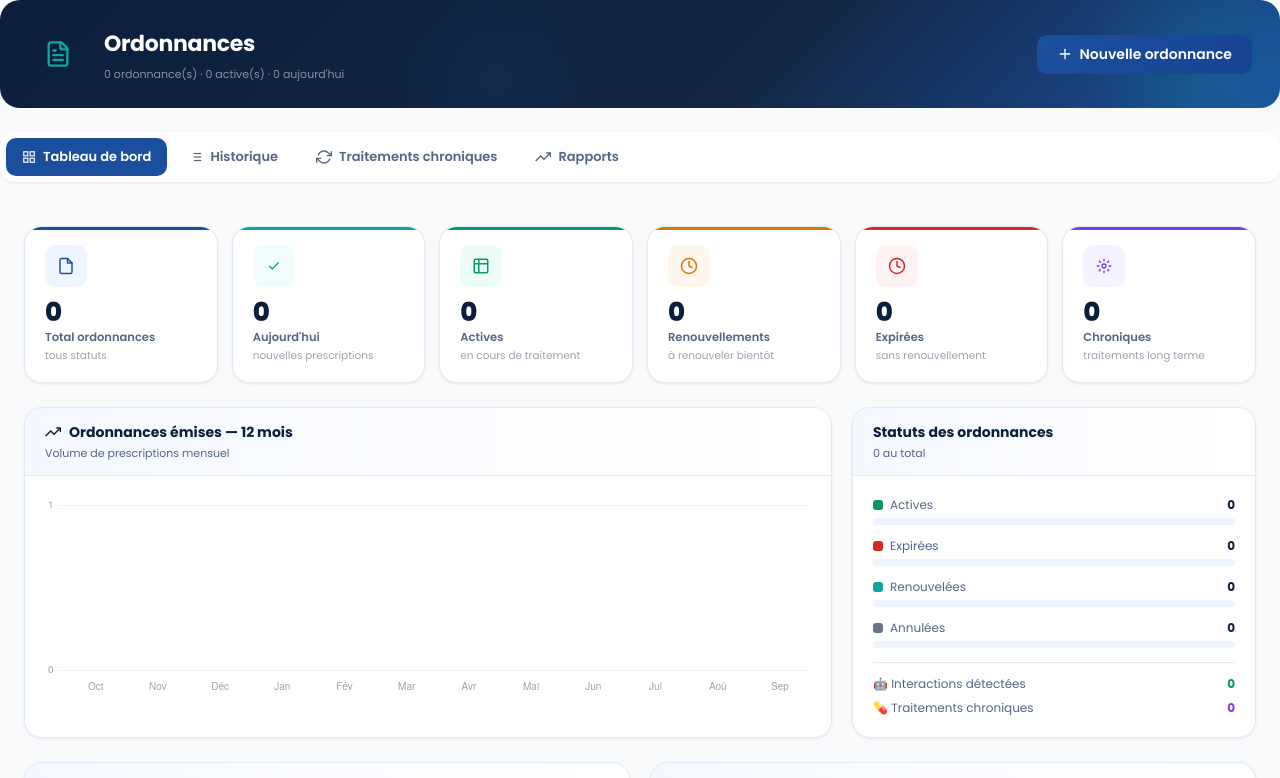
Scenario: un pharmacien voit bien l'onglet "Pharmacie" et peut y accéder
Click the button "Historique". click: [234, 157]
box: [173,138,294,176]
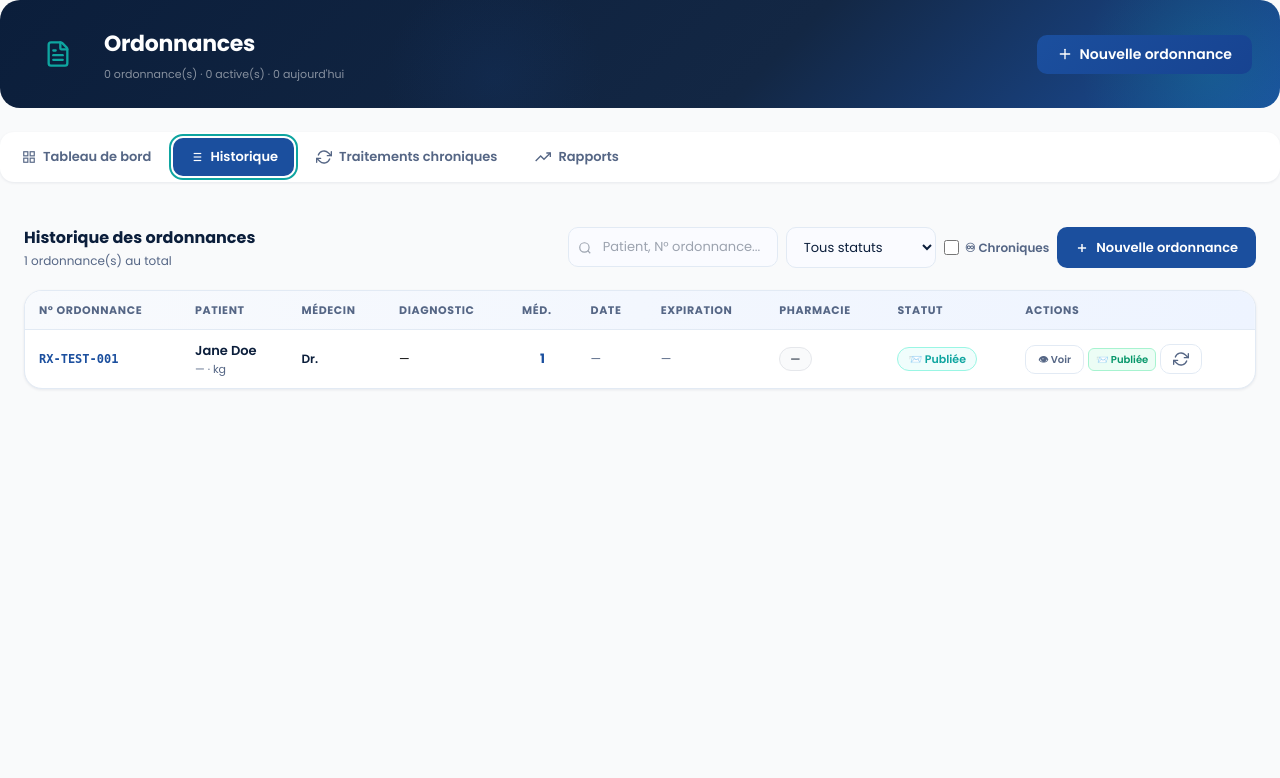
Click the button titled "Voir l'ordonnance". click: [1055, 359]
box: [1025,344,1084,374]
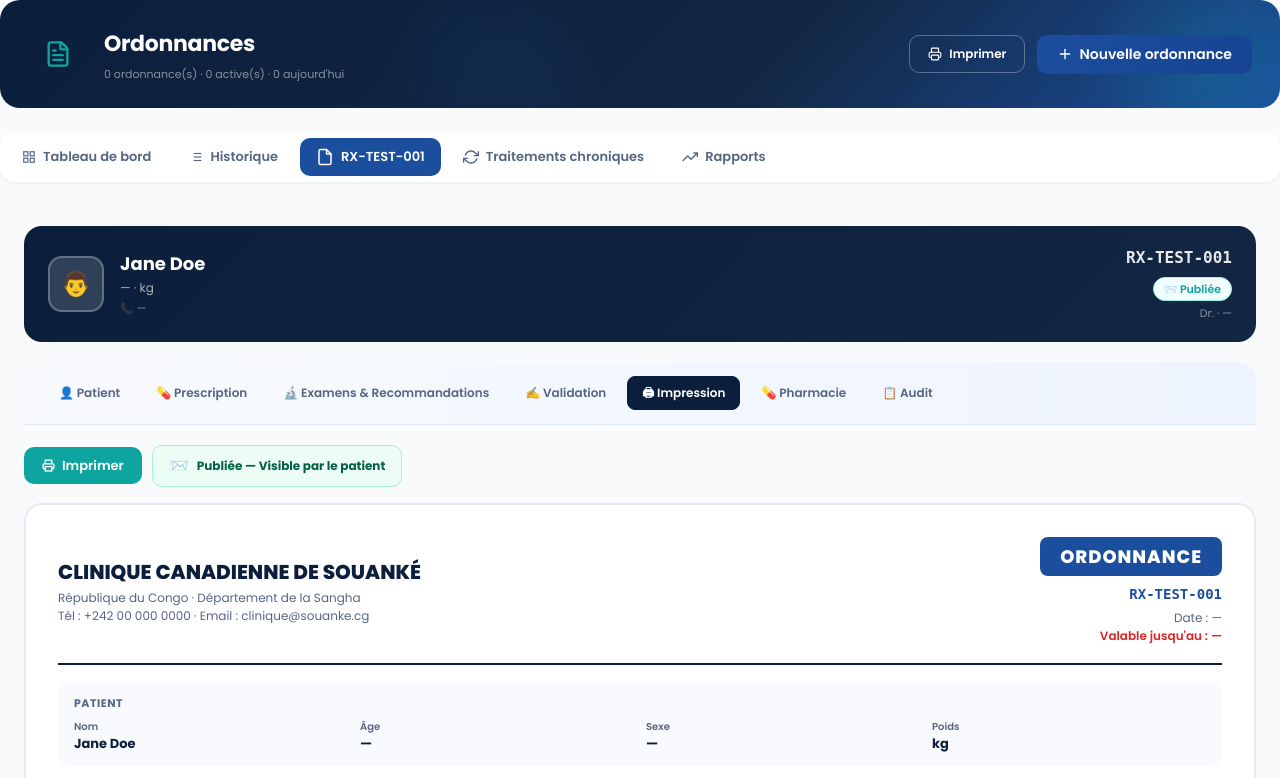
Click the button "💊 Pharmacie". click: [804, 392]
box: [746,376,861,410]
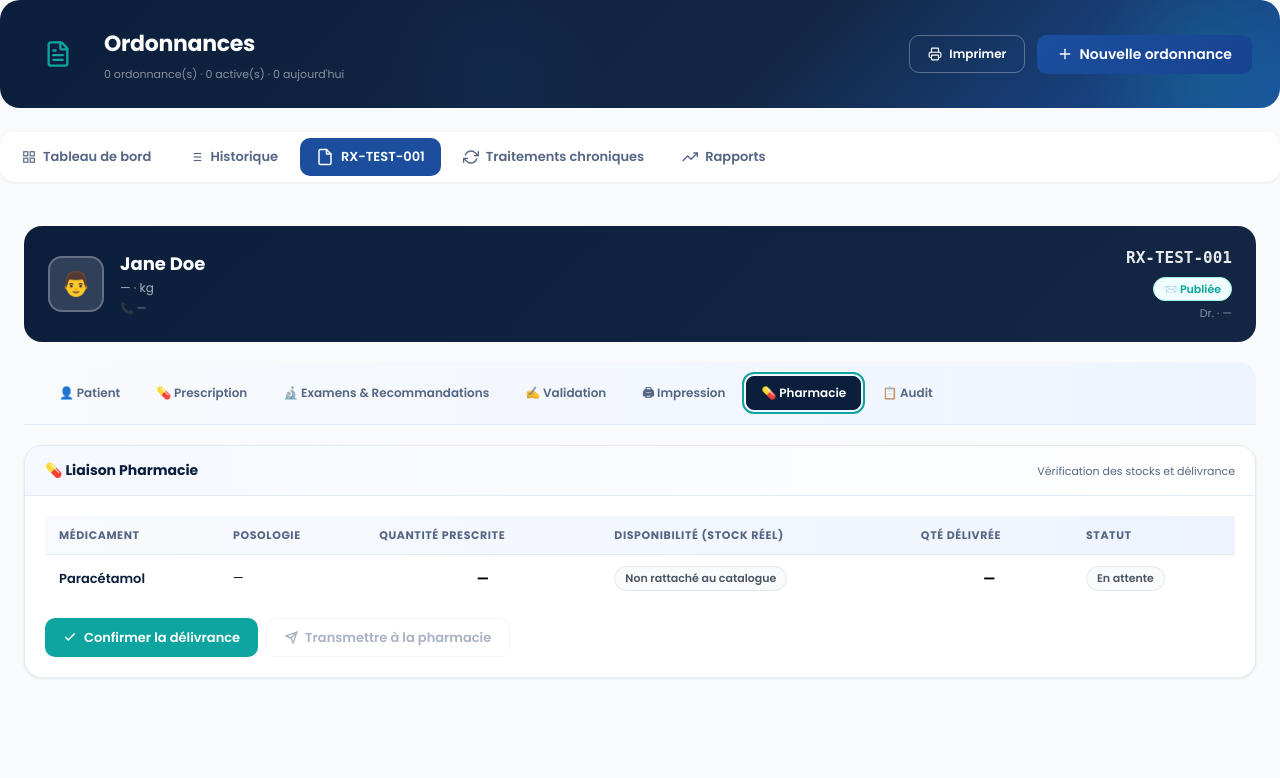
Result: the heading "💊 Liaison Pharmacie" is shown at [45,460,198,480]
